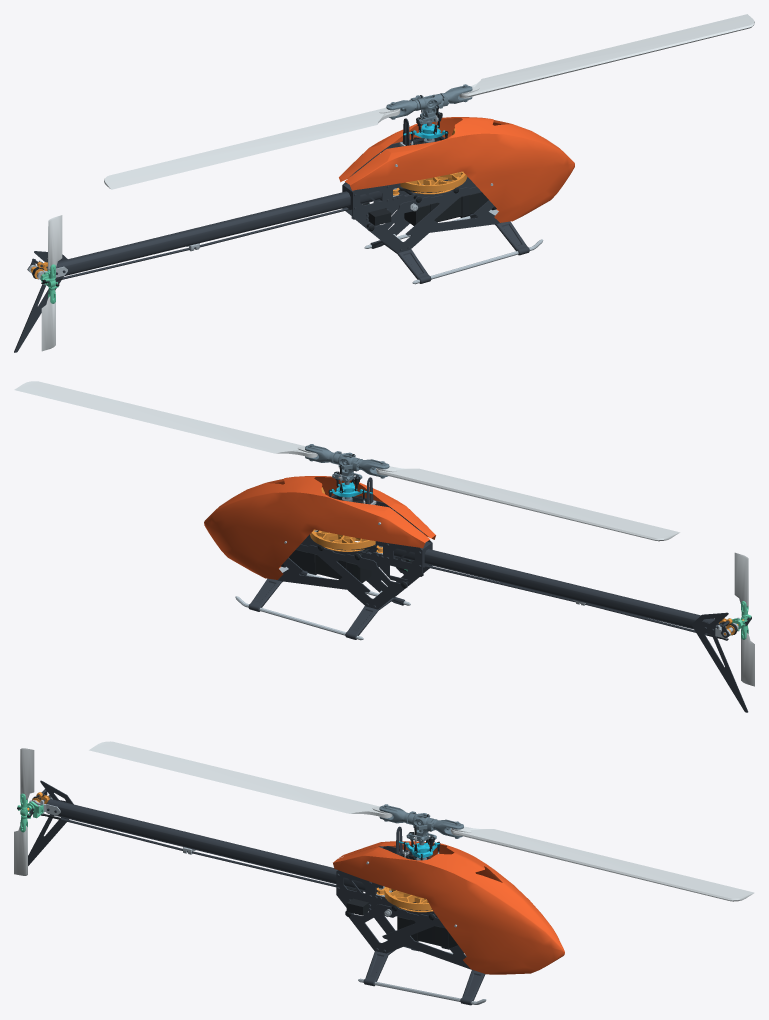
Rendered from tron550.glb.
The picture shows the model from 3 angles, top to bottom: view 1: azimuth 30°, elevation 25°; view 2: azimuth 150°, elevation 25°; view 3: azimuth 330°, elevation 25°; orthographic projection.
Parts seen in each view (by area): view 1: CanopyShell, Airframe_Hardware_Carbon, BoomShell, MainBladeA_A, MainBladeB_B, Airframe_Hardware_Rubber, Airframe_Hardware_Steel, TailPushrod_TailRod_BallPan_Cylinder.011, MainGear_Hardware_Drive, TailBladeA, TailBladeB; view 2: CanopyShell, Airframe_Hardware_Carbon, BoomShell, MainBladeA_A, MainBladeB_B, Airframe_Hardware_Rubber, Airframe_Hardware_Steel, TailPushrod_TailRod_BallPan_Cylinder.011, MainGear_Hardware_Drive, TailBladeA, TailBladeB; view 3: CanopyShell, Airframe_Hardware_Carbon, BoomShell, MainBladeB_B, MainBladeA_A, Airframe_Hardware_Rubber, Airframe_Hardware_Steel, TailPushrod_TailRod_BallPan_Cylinder.011, TailBladeA, TailBladeB, MainGear_Hardware_Drive, MainGripB_Hardware_Rotor.
Part boxes in pixels (x1,y1,x2,y2): CanopyShell: (339,117,574,222); Airframe_Hardware_Carbon: (14,118,529,352); BoomShell: (56,191,381,278); MainBladeA_A: (104,107,400,189); MainBladeB_B: (459,14,754,98); Airframe_Hardware_Rubber: (353,136,496,231); Airframe_Hardware_Steel: (28,142,543,284); TailPushrod_TailRod_BallPan_Cylinder.011: (62,208,349,279); MainGear_Hardware_Drive: (400,171,467,192); TailBladeA: (48,215,62,270); TailBladeB: (41,296,55,351); CanopyShell: (204,476,435,579); Airframe_Hardware_Carbon: (248,477,748,712); BoomShell: (394,548,717,629); MainBladeA_A: (376,466,679,541); MainBladeB_B: (14,381,317,457); Airframe_Hardware_Rubber: (280,495,421,588); Airframe_Hardware_Steel: (235,500,738,640); TailPushrod_TailRod_BallPan_Cylinder.011: (426,565,707,635); MainGear_Hardware_Drive: (310,529,375,549); TailBladeA: (734,552,748,606); TailBladeB: (741,632,754,686); CanopyShell: (333,841,564,974); Airframe_Hardware_Carbon: (28,780,485,1005); BoomShell: (47,799,377,893); MainBladeB_B: (450,826,754,901); MainBladeA_A: (89,741,392,818); Airframe_Hardware_Rubber: (345,854,457,949); Airframe_Hardware_Steel: (32,797,486,1004); TailPushrod_TailRod_BallPan_Cylinder.011: (60,818,336,887); TailBladeA: (20,748,34,799); TailBladeB: (14,825,27,875); MainGear_Hardware_Drive: (384,887,431,910); MainGripB_Hardware_Rotor: (413,819,463,838).
Bounding box in the file's own units: 1.36 × 0.2881 × 0.1629.
